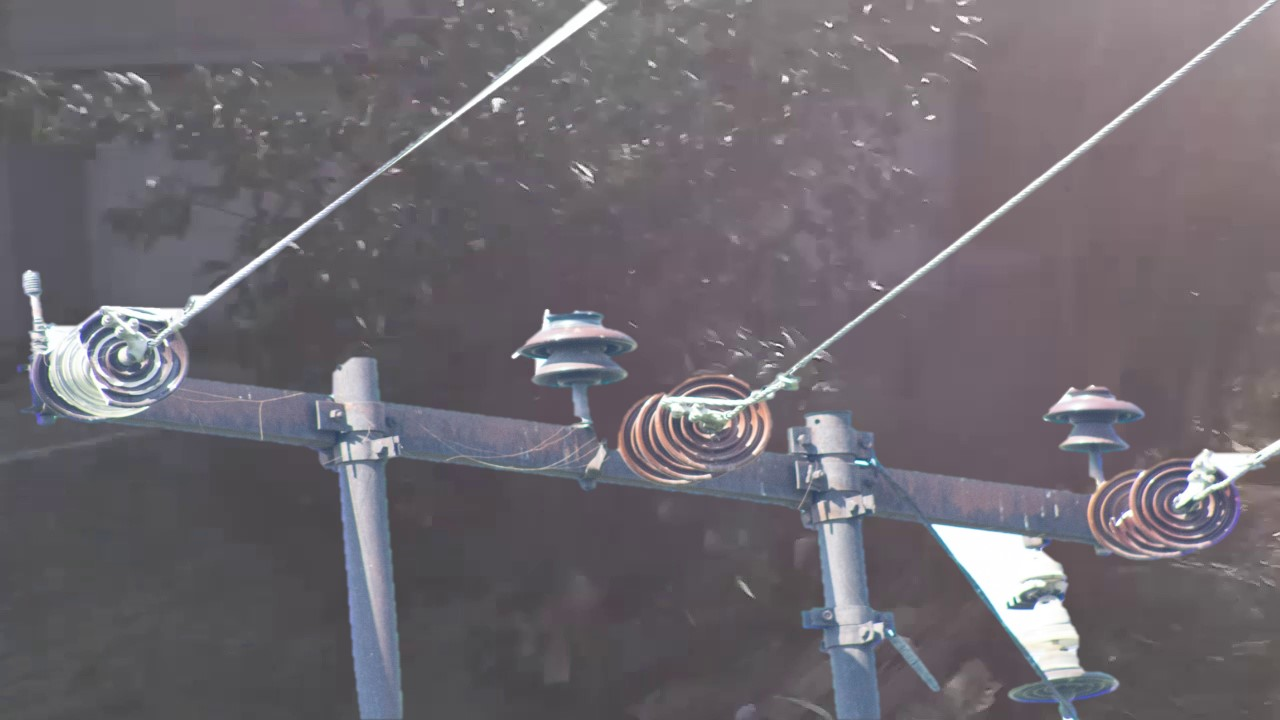defect_disc: (76, 302, 194, 415)
insulator_disc: (652, 368, 777, 475), (1127, 453, 1244, 556)
